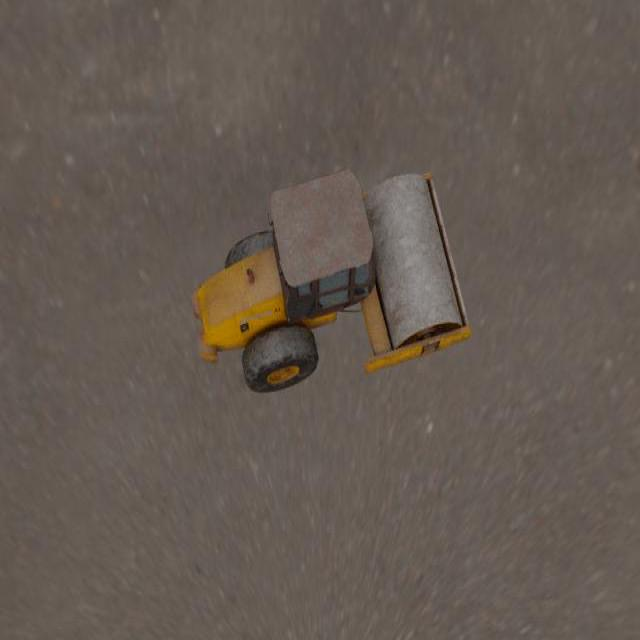Roller: (190, 168, 471, 393)
